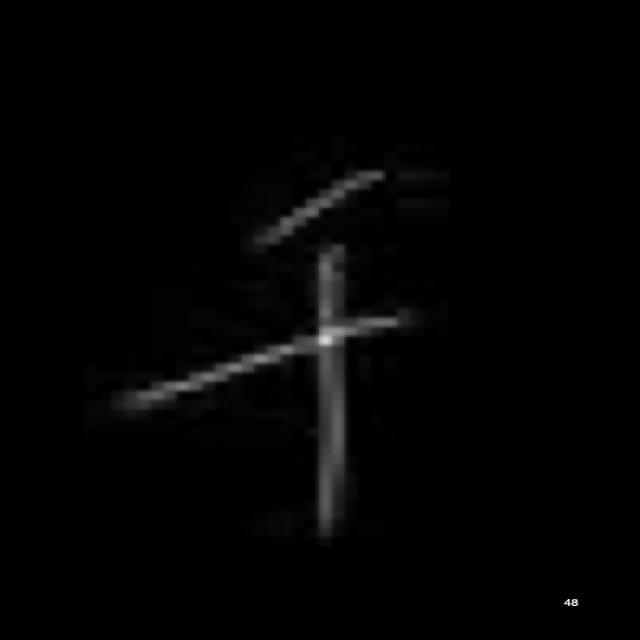1000 -a thousand-: (97, 158, 412, 547)
